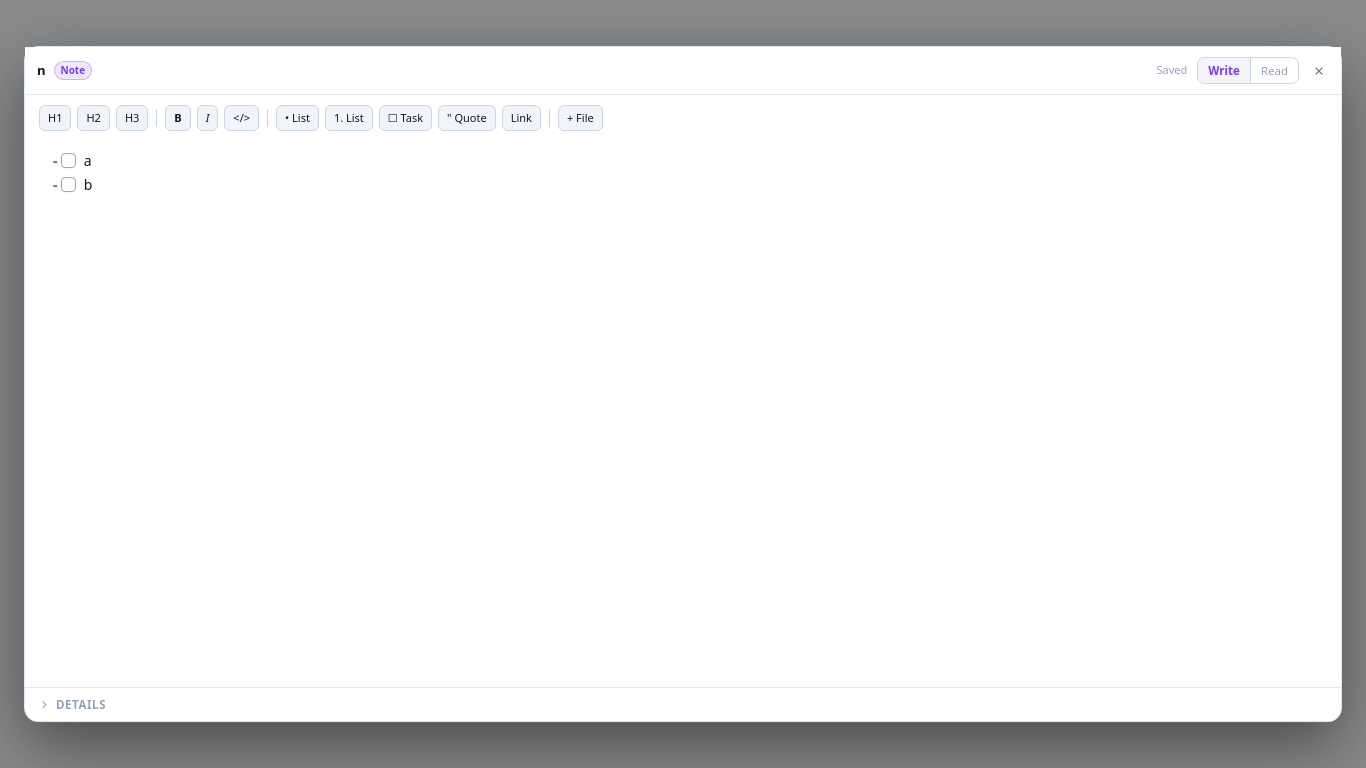
Test case: ticking a note checkbox with the mouse › ticks the clicked box and writes it back to the markdown
Click the button "Read". click: (1274, 71)
box: [1250,58,1298,83]
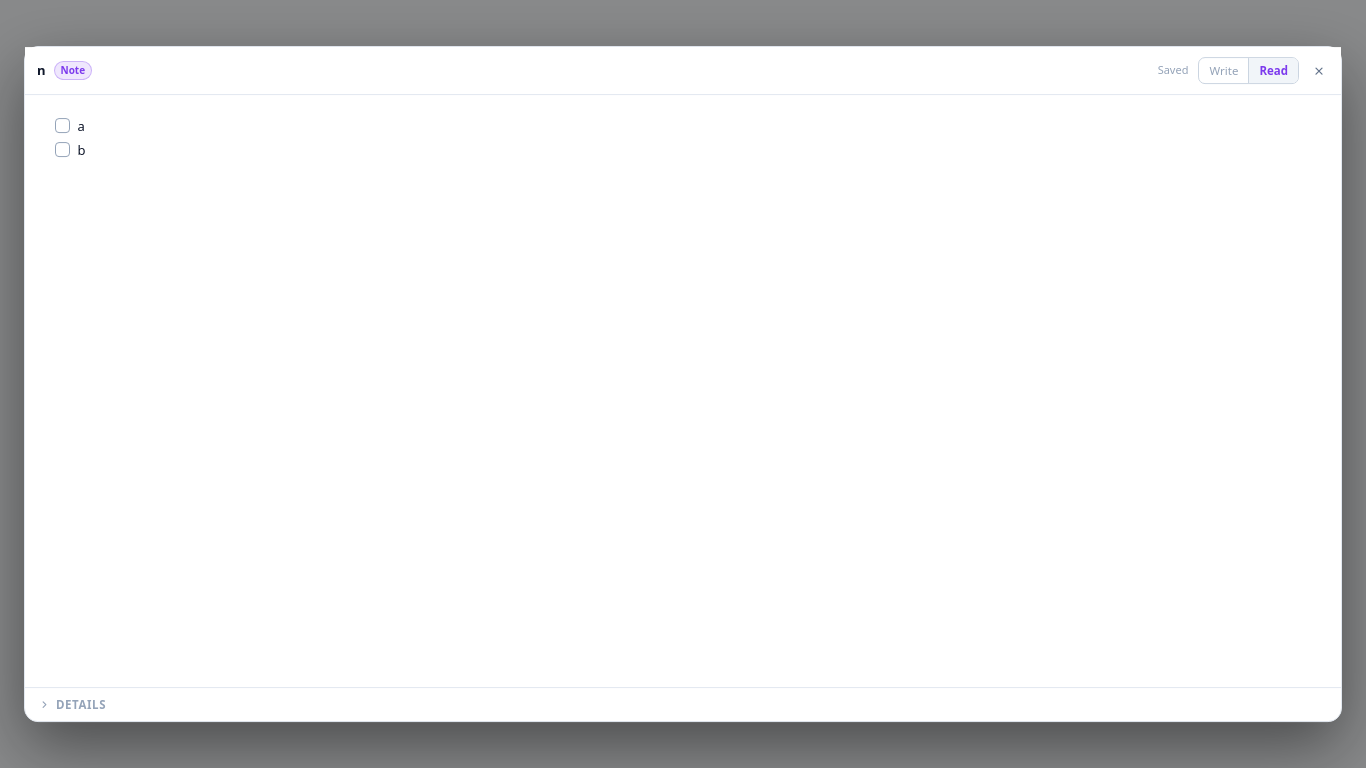
Click the 2nd checkbox. click: (62, 150)
box: [55,142,70,157]
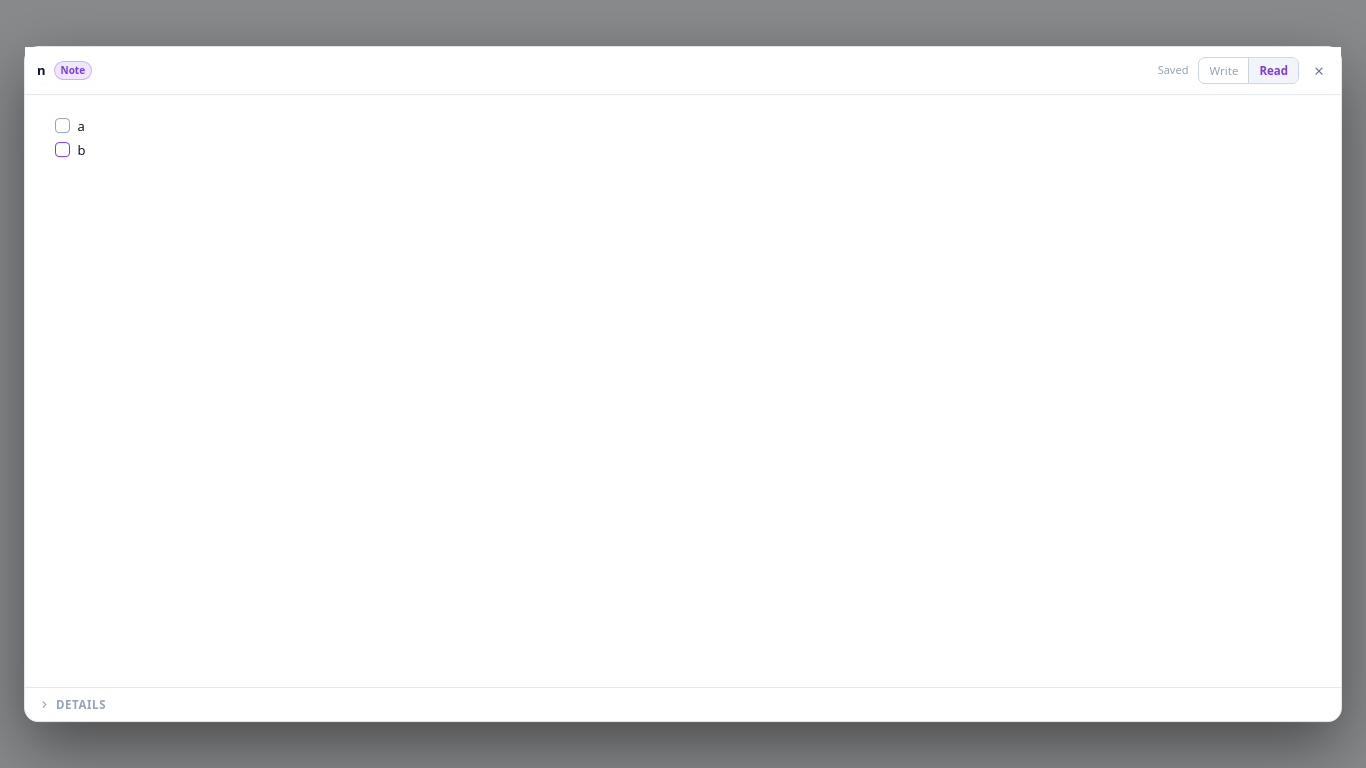
expect the 2nd checkbox is checked: met, box [55,142,70,157]
